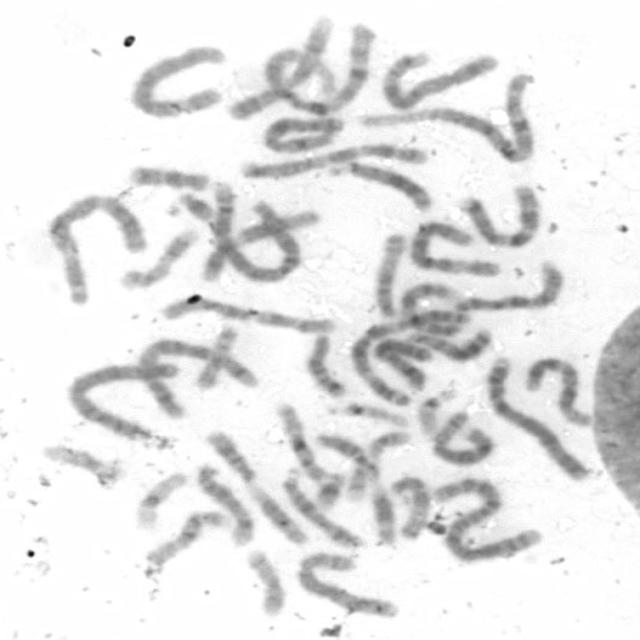A1: (353, 73, 537, 163), (260, 23, 380, 115)
A2: (425, 476, 544, 562), (211, 182, 301, 282)
A3: (351, 309, 474, 406), (45, 192, 147, 304)
B4: (484, 355, 590, 483), (66, 361, 182, 444)
B5: (135, 337, 260, 421), (380, 49, 503, 110)
C10: (158, 290, 337, 336), (458, 259, 562, 311)
C11: (206, 430, 311, 544), (312, 433, 397, 548)
C12: (202, 208, 324, 282), (522, 356, 593, 428)
C6: (128, 45, 230, 117), (409, 219, 502, 278)
C7: (240, 141, 430, 180), (459, 184, 543, 249)
C8: (296, 553, 399, 619), (428, 408, 494, 465)
C9: (226, 18, 333, 120), (397, 280, 469, 336)
D13: (316, 162, 434, 215), (402, 326, 493, 365)
D14: (282, 466, 367, 551), (196, 466, 255, 548)
D15: (364, 232, 407, 318), (387, 476, 429, 540)
E16: (144, 509, 232, 566), (274, 402, 328, 484)
E17: (345, 429, 413, 506), (118, 229, 200, 289)
E18: (127, 164, 230, 192), (306, 332, 347, 398)
F19: (135, 471, 188, 531), (40, 444, 126, 480)
F20: (243, 549, 286, 616), (196, 328, 242, 390)
G21: (308, 472, 348, 514), (176, 192, 215, 226)
G22: (328, 402, 410, 430), (416, 389, 456, 436)
X: (370, 337, 432, 393), (261, 117, 345, 154)
